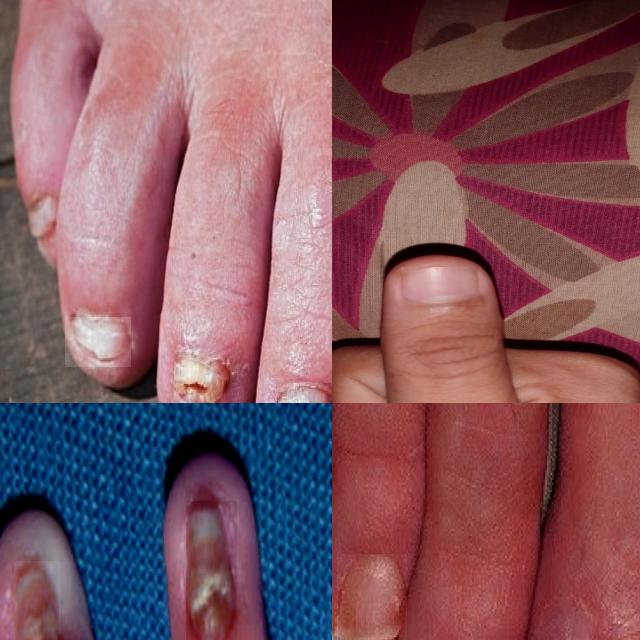diabetes: (187, 501, 237, 640), (337, 554, 407, 640), (15, 561, 61, 640), (66, 318, 131, 367), (175, 354, 225, 403), (279, 384, 332, 403)
sehat: (401, 268, 482, 305)
